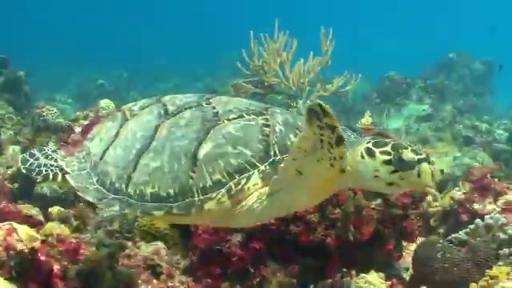Fish: (20, 94, 435, 227)
